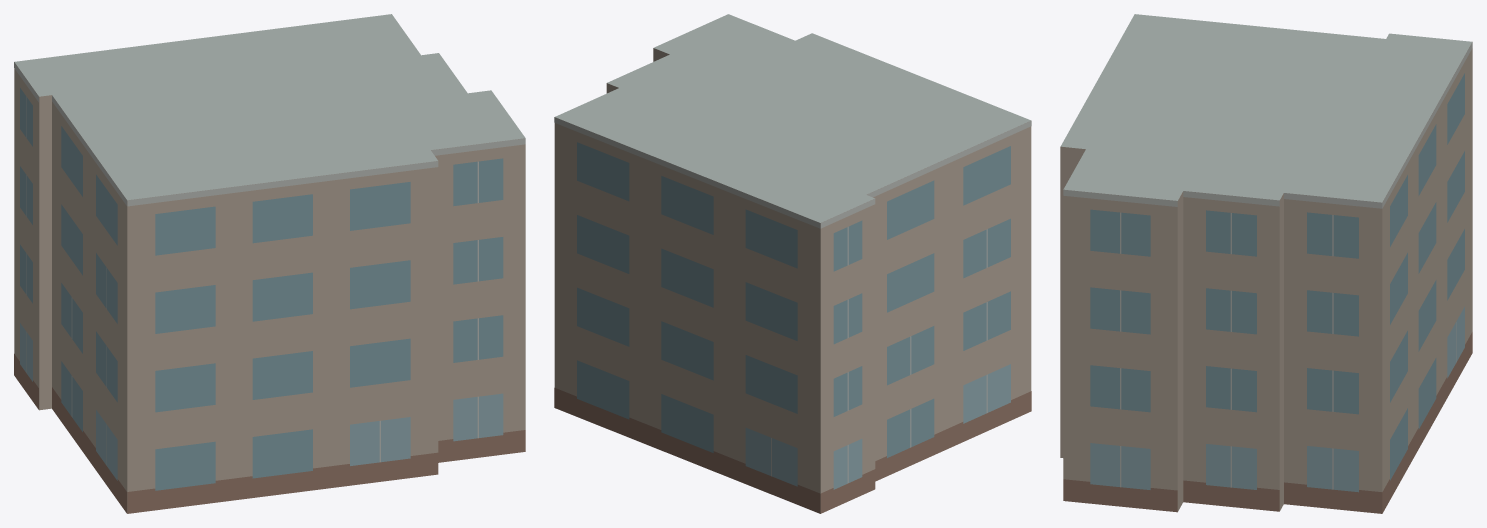
File: survey-upis-32657972.glb
3 views of the same model, side by side, from view 1: azimuth 30°, elevation 25°; view 2: azimuth 150°, elevation 25°; view 3: azimuth 270°, elevation 25° (orthographic). The views are drawn at different scales.
Visible parts, largest first — view 1: survey-upis-32657972.tmp; view 2: survey-upis-32657972.tmp; view 3: survey-upis-32657972.tmp.
Boxes of the visible parts, box(x1,y1,x2,y2) form: survey-upis-32657972.tmp: box(14, 14, 525, 513); survey-upis-32657972.tmp: box(554, 14, 1031, 513); survey-upis-32657972.tmp: box(1060, 14, 1472, 513).
Size of the model in its own units: 16.12 by 12.4 by 14.89.
